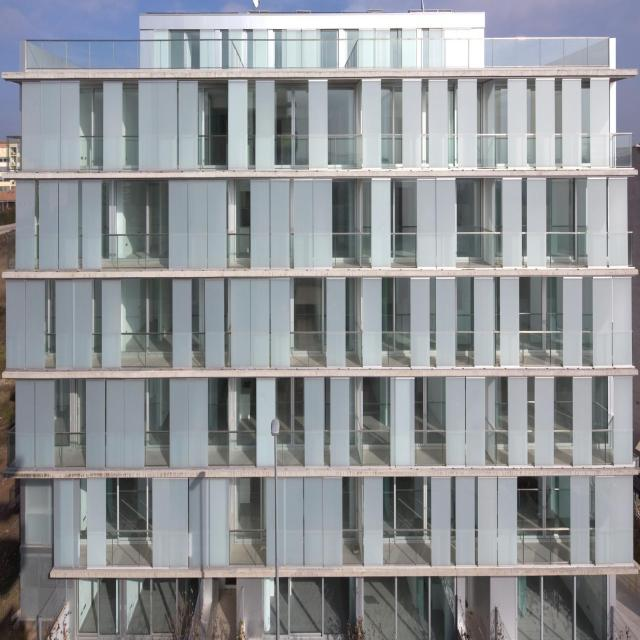door: (518, 574, 608, 639), (365, 576, 455, 640), (267, 577, 349, 639), (125, 578, 199, 639), (77, 579, 119, 639)
railing: (26, 37, 609, 67), (545, 232, 633, 265), (102, 234, 169, 268), (201, 429, 256, 467), (581, 329, 633, 369), (119, 332, 173, 367), (382, 531, 432, 567), (518, 528, 570, 561), (429, 331, 474, 365), (519, 332, 564, 366), (455, 232, 500, 265), (348, 430, 388, 467), (106, 532, 150, 564), (229, 532, 267, 565), (275, 132, 309, 168), (327, 132, 361, 168), (335, 234, 371, 268), (290, 332, 327, 365), (413, 428, 446, 465), (198, 134, 230, 170), (475, 133, 507, 167), (381, 333, 410, 367), (390, 232, 418, 266), (484, 430, 508, 469), (55, 434, 85, 465), (276, 431, 304, 464), (227, 233, 251, 269), (147, 431, 171, 465), (591, 430, 613, 465), (381, 133, 403, 166), (610, 133, 632, 166), (121, 135, 141, 171), (81, 137, 102, 170), (344, 530, 363, 564), (554, 431, 573, 463), (346, 334, 364, 365), (192, 333, 206, 369), (247, 135, 257, 170), (323, 432, 333, 467), (46, 334, 56, 369), (528, 428, 536, 465), (580, 133, 589, 165), (93, 332, 101, 368), (224, 334, 232, 369), (527, 134, 535, 168), (421, 133, 429, 167), (450, 136, 458, 169), (556, 135, 564, 168)
window: (121, 277, 172, 330), (115, 181, 166, 234), (517, 476, 570, 527), (106, 477, 152, 530), (520, 276, 562, 332), (384, 477, 430, 527), (209, 380, 255, 428), (22, 481, 52, 554), (547, 180, 588, 233), (228, 478, 268, 529), (290, 278, 327, 330), (53, 378, 86, 434), (331, 182, 369, 230), (272, 83, 308, 133), (380, 278, 411, 334), (362, 375, 391, 430), (414, 376, 444, 426), (275, 379, 305, 429), (589, 373, 611, 434), (457, 180, 483, 231), (327, 83, 355, 129), (553, 374, 574, 435), (391, 180, 416, 230), (80, 84, 103, 136), (80, 84, 103, 136), (146, 378, 168, 427), (381, 84, 402, 132), (457, 277, 474, 333), (234, 182, 250, 231), (123, 86, 138, 135), (495, 376, 507, 428), (428, 276, 436, 333), (527, 376, 535, 428), (323, 377, 331, 428)
